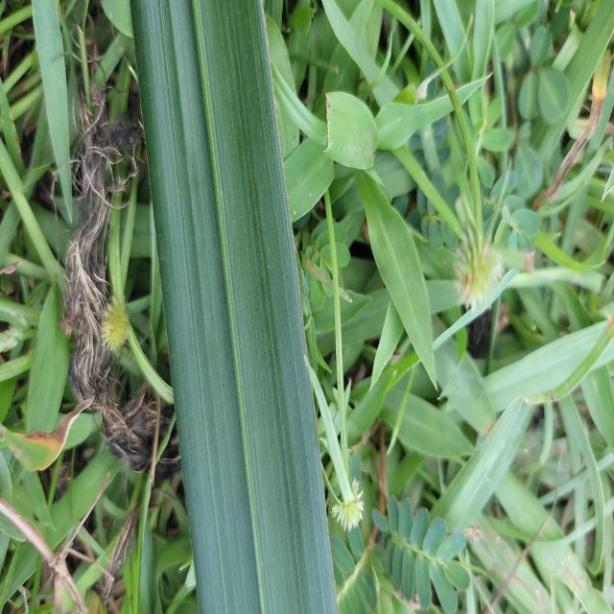Healthy: (132, 3, 346, 614)
